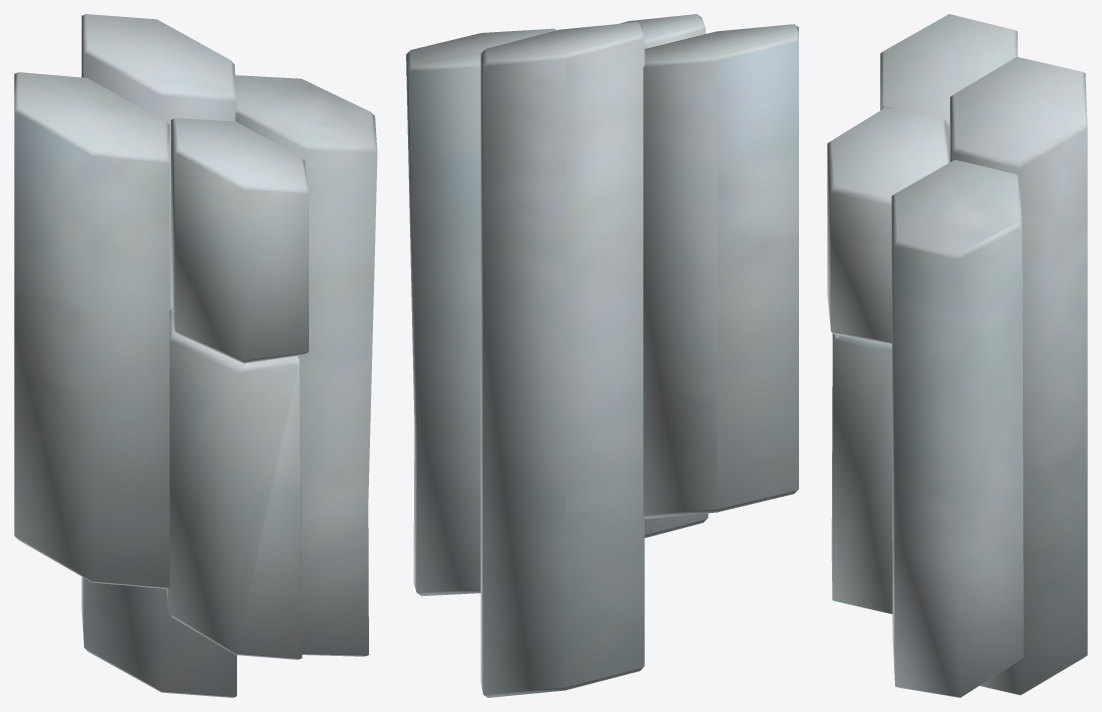
The model's file is P_RockHexic_RockSlanted03.obj.
The picture shows the model from 3 angles, left to right: view 1: azimuth 30°, elevation 25°; view 2: azimuth 150°, elevation 25°; view 3: azimuth 270°, elevation 25°; orthographic projection. The views are drawn at different scales.
Bounding box in the file's own units: 9.82 × 16.68 × 6.82.
